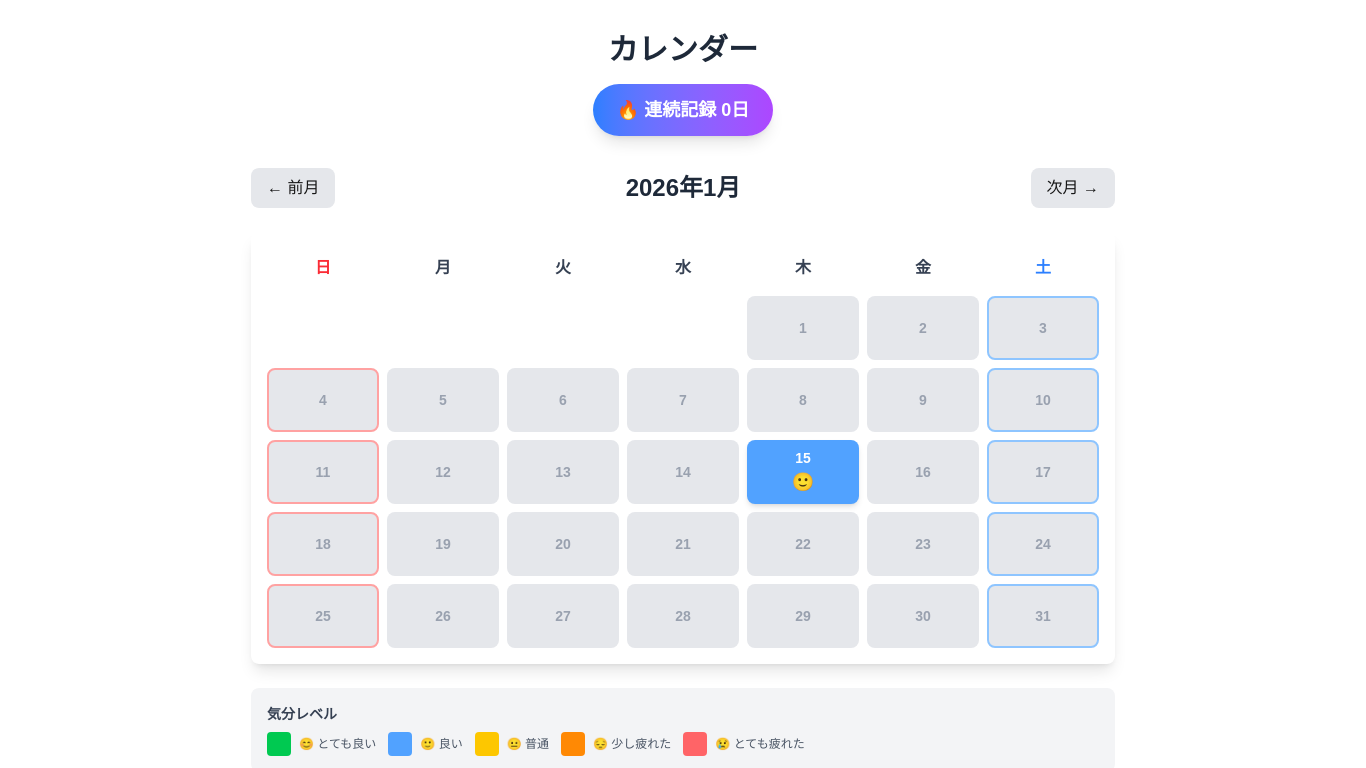
it: Calendar Modal Flow Integration › 記録編集フロー › 詳細モーダルから編集モーダルを開ける
The width and height of the screenshot is (1366, 768).
Check: the heading "カレンダー" is shown, box [608,33,758,66]
Click the button named "15日 記録あり" at (803, 472), box [747,440,859,504]
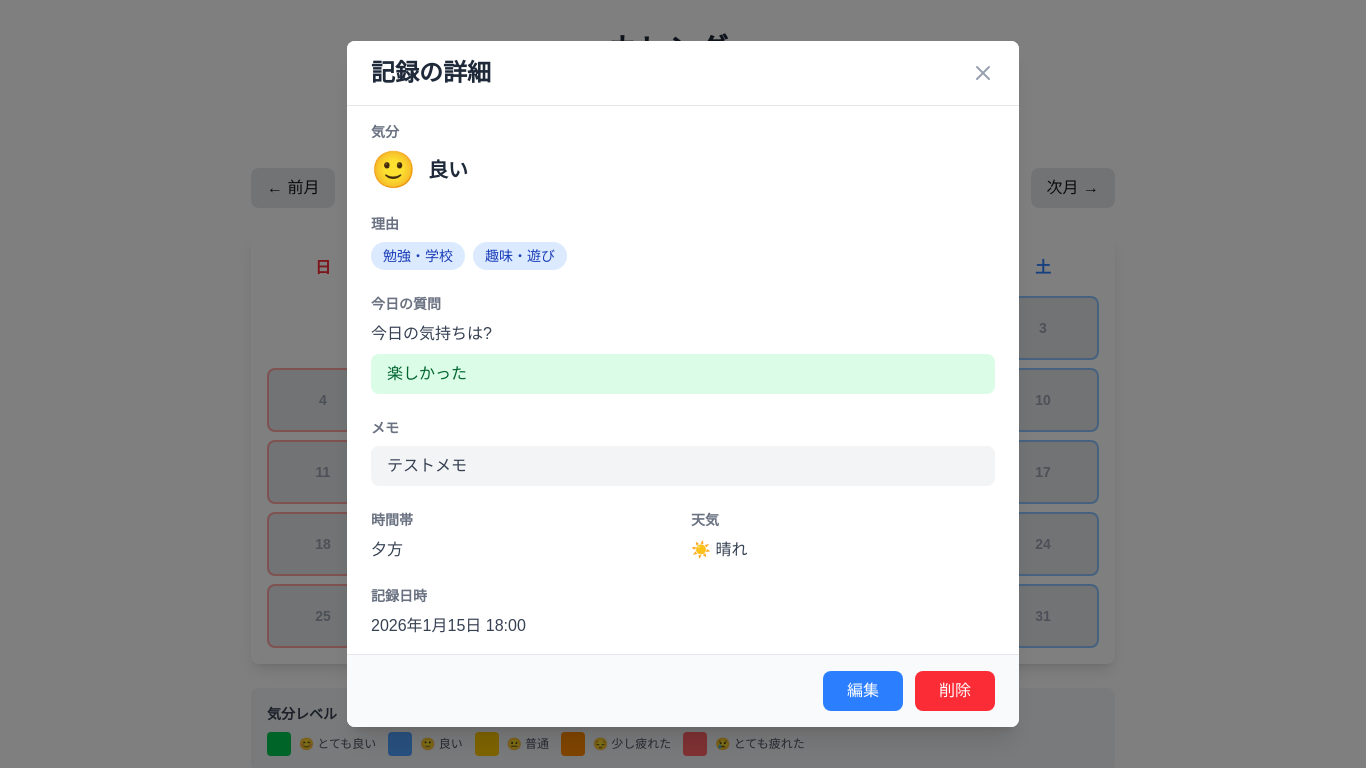
Check: the heading "記録の詳細" is shown, box [371,57,491,89]
Click the button "編集" at (863, 691), box [823,671,903,711]
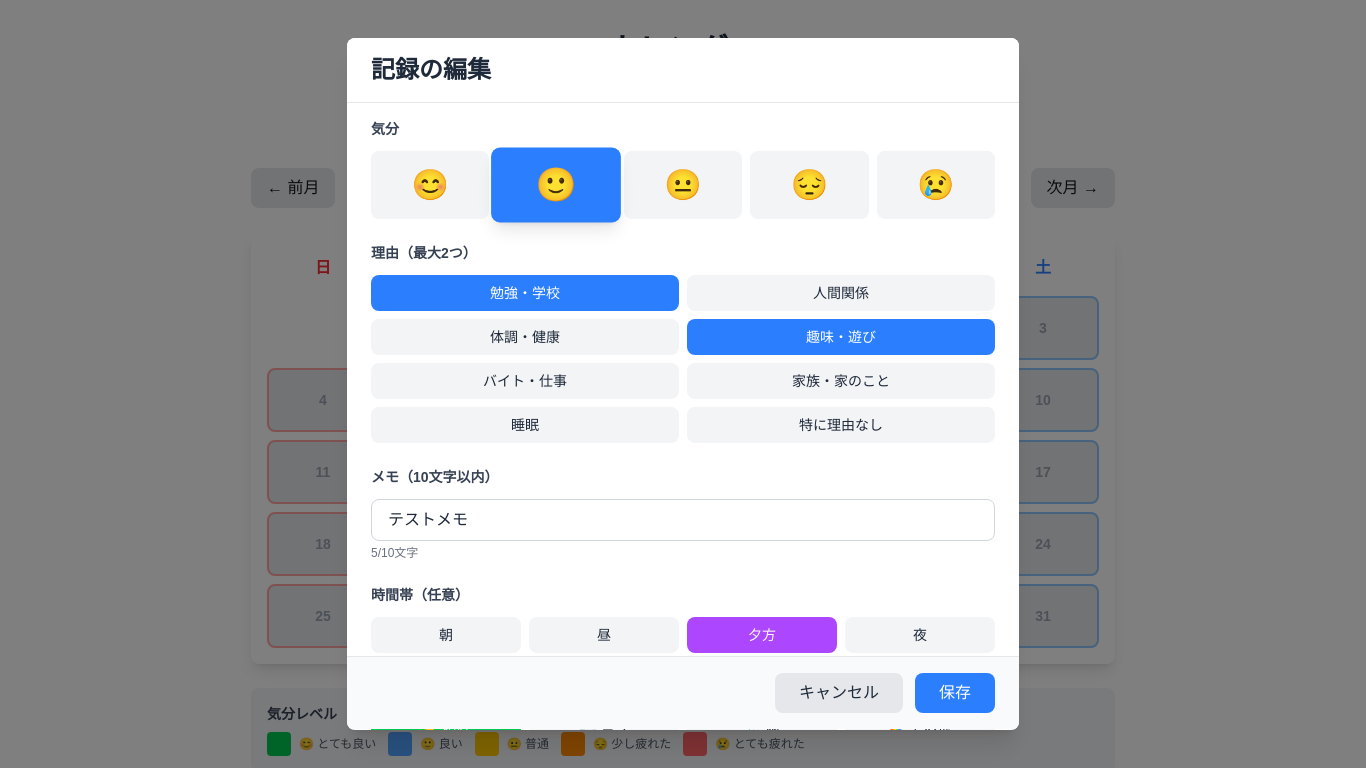
Check: the heading "記録の編集" is shown, box [371,56,491,83]
